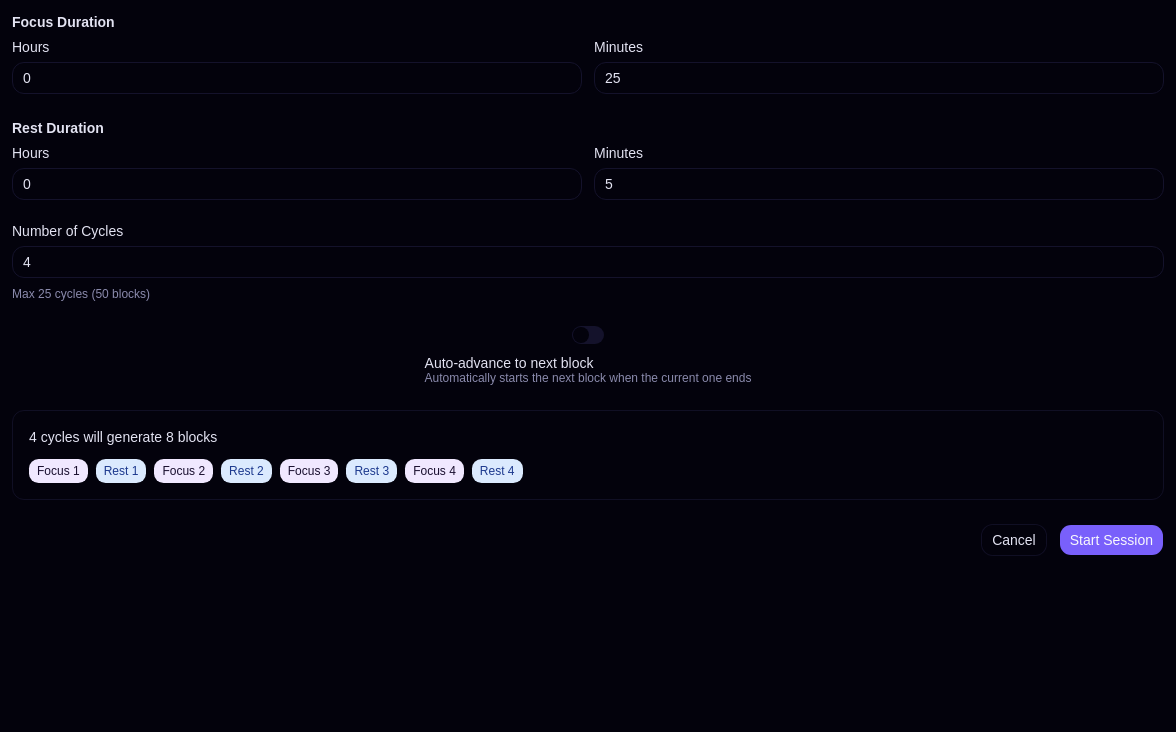
Test case: TraditionalForm › uses singular 'cycle' for a single cycle
Replace the text in the number field labelled "Number of Cycles" with "1" at [588, 262], box [12,246,1164,278]
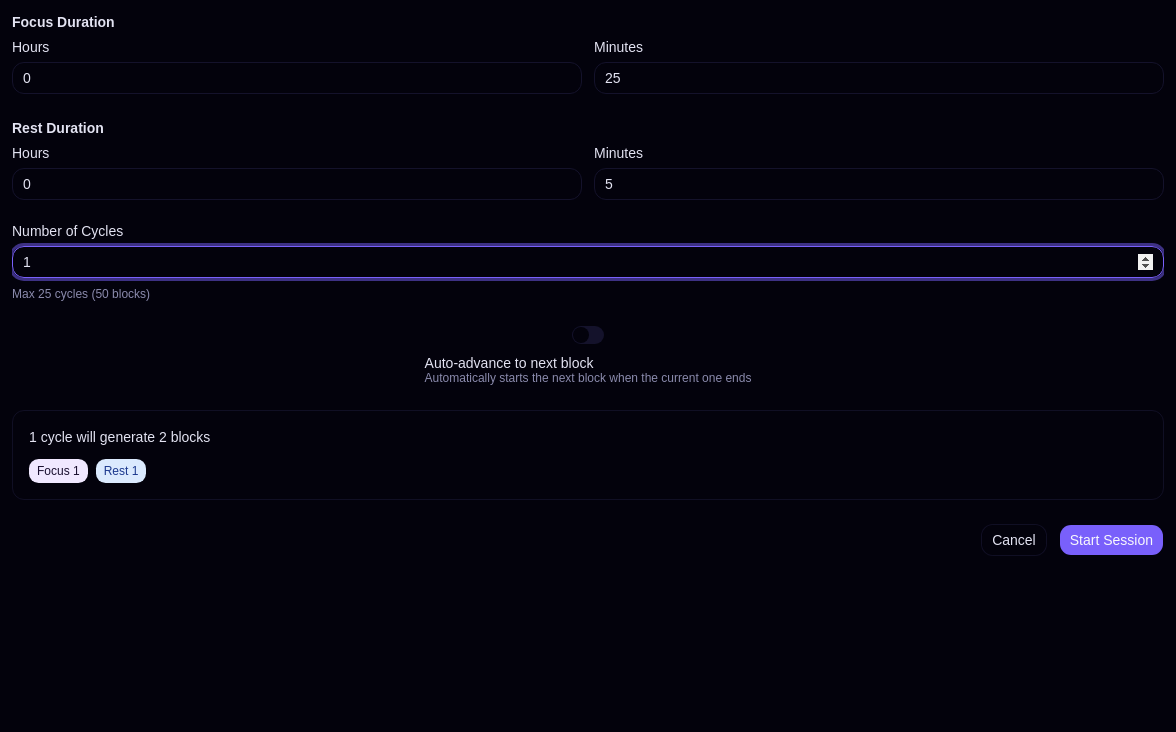
Result: the text "1 cycle will generate 2 blocks" is shown at [29,429,210,445]
